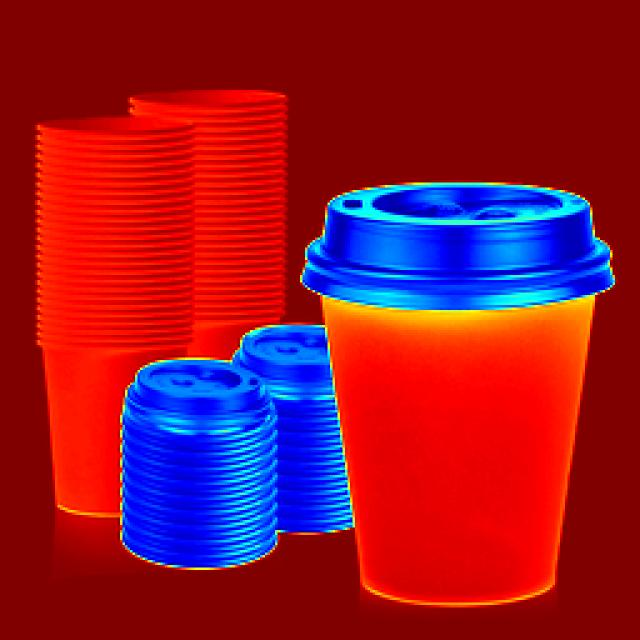Paper Cups: (305, 170, 613, 608), (34, 124, 179, 467), (119, 360, 289, 562), (157, 82, 287, 318), (236, 328, 364, 490)
